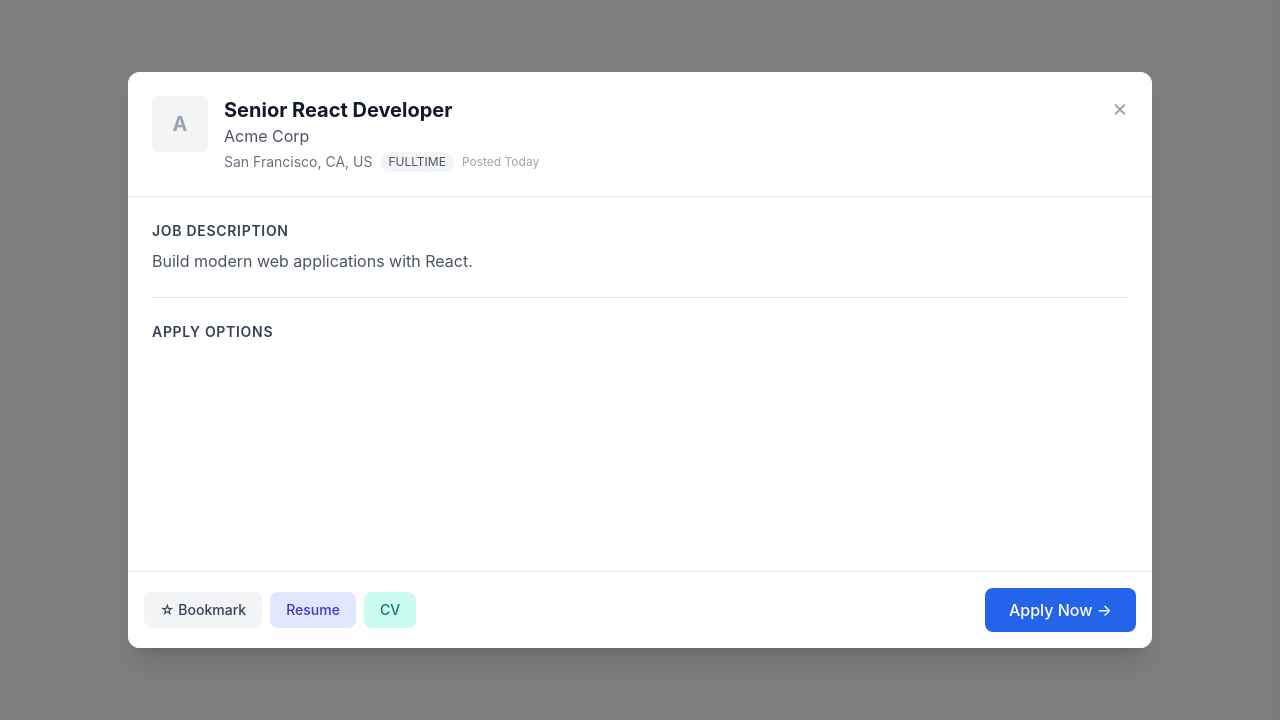
it: JobDetail › shows catch-block error when generateResume throws
The width and height of the screenshot is (1280, 720).
Click the button with test id "generate-resume-btn".
click(313, 610)  # box x1=270 y1=592 x2=356 y2=628
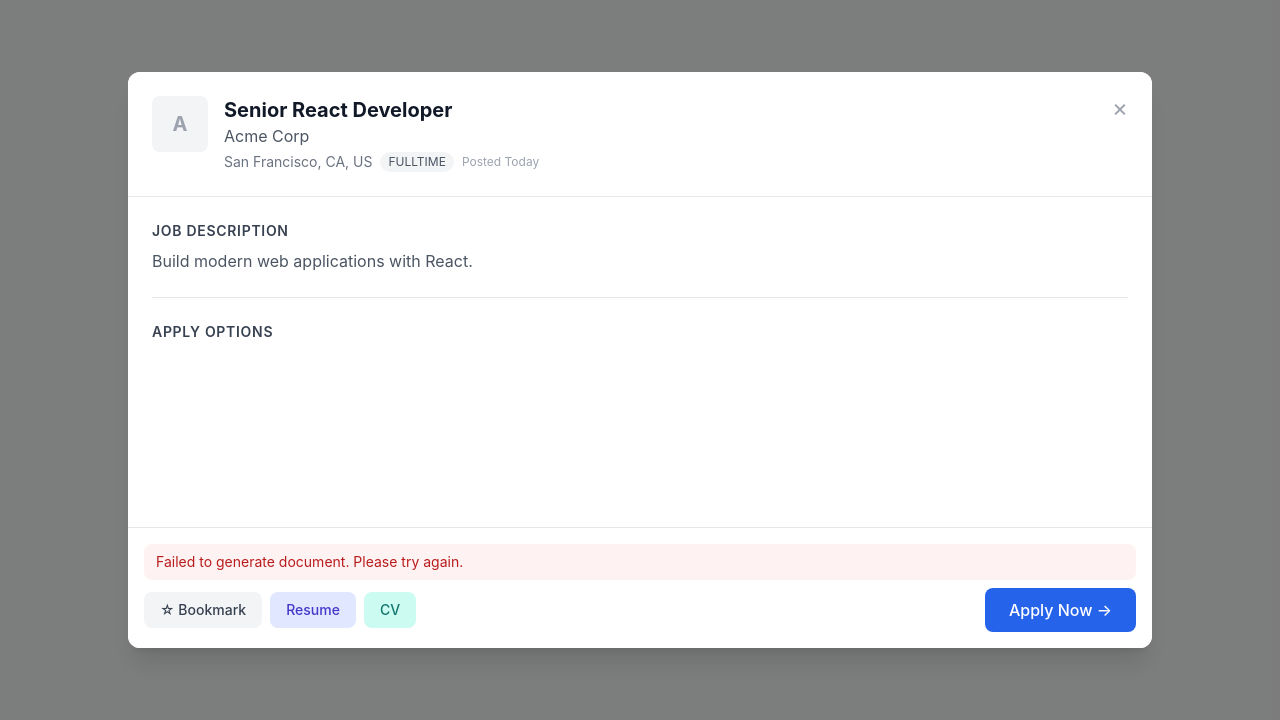
Result: the text "Failed to generate document. Please try again." is shown at x1=144 y1=544 x2=1136 y2=580
Result: the text with test id "doc-message" shows "Failed to generate document" at x1=156 y1=553 x2=463 y2=570
